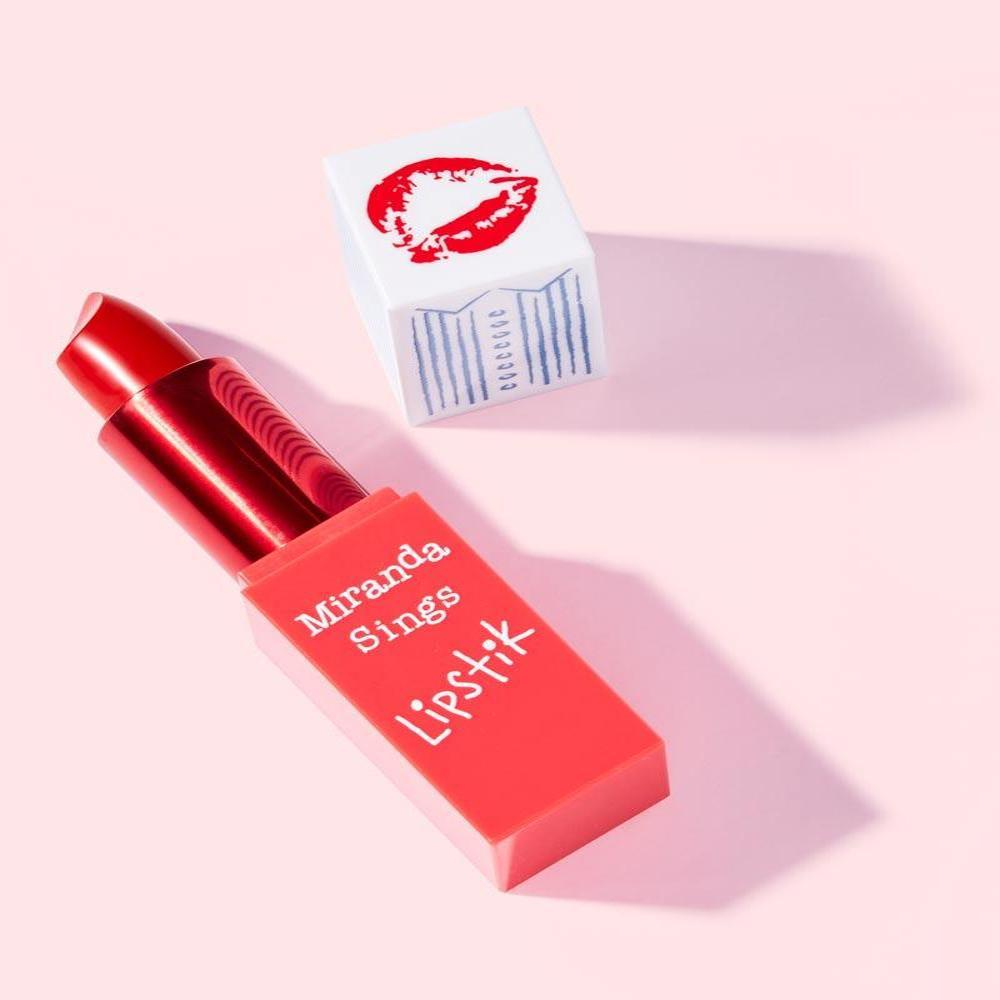lipstick: (41, 274, 625, 880)
